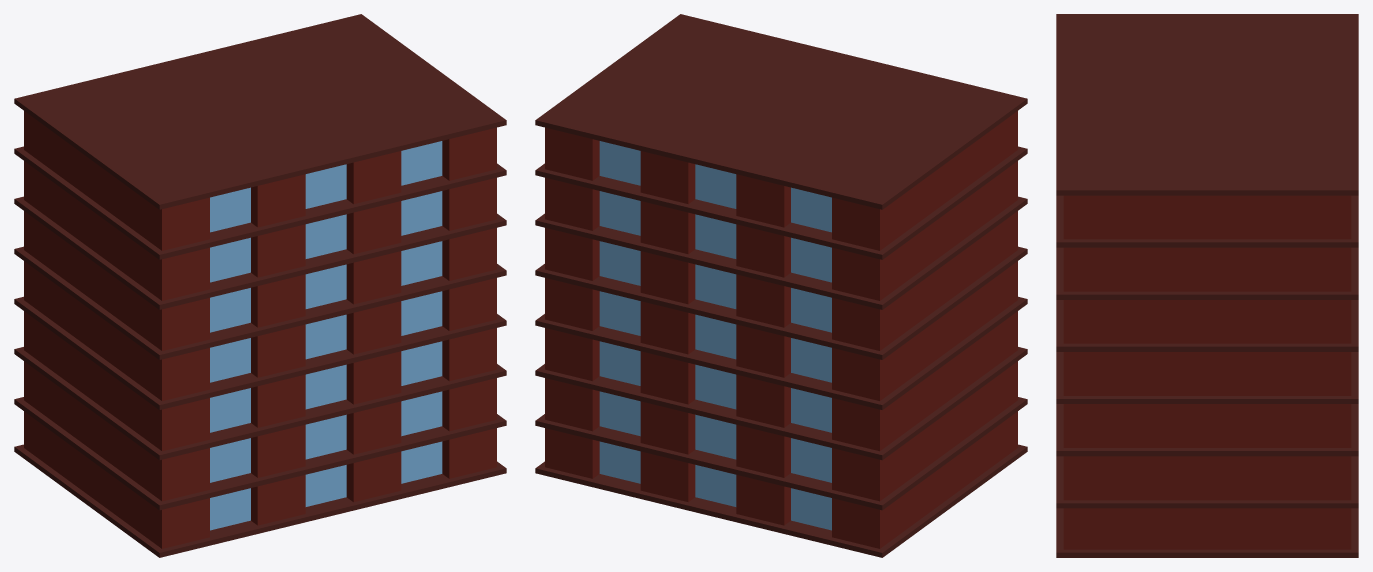
Rendered from Building2.gltf.
3 renders of one model, left to right at view 1: azimuth 30°, elevation 25°; view 2: azimuth 150°, elevation 25°; view 3: azimuth 270°, elevation 25°, orthographic. The views are drawn at different scales.
Parts seen in each view (by area): view 1: Cube.006, Cube.010, Cube.001, Cube.002, Cube.005, Cube.003, Cube.007, Cube.004, Cube.008, Cube.013, Cube.009, Cube.014 (+3 smaller); view 2: Cube.006, Cube.010, Cube.001, Cube.002, Cube.005, Cube.003, Cube.007, Cube.004, Cube.008, Cube.013, Cube.009, Cube.014 (+3 smaller); view 3: Cube.005, Cube.010, Cube.009, Cube.011, Cube.014, Cube.015, Cube.013, Cube.008, Cube.012.
Boxes of the visible parts, x1=… form: Cube.006: x1=24, y1=111, x2=209, y2=548; Cube.010: x1=14, y1=14, x2=506, y2=209; Cube.001: x1=346, y1=151, x2=401, y2=502; Cube.002: x1=251, y1=174, x2=305, y2=525; Cube.005: x1=442, y1=127, x2=496, y2=478; Cube.003: x1=401, y1=141, x2=442, y2=483; Cube.007: x1=305, y1=164, x2=346, y2=506; Cube.004: x1=210, y1=187, x2=250, y2=530; Cube.008: x1=14, y1=444, x2=506, y2=557; Cube.013: x1=14, y1=246, x2=506, y2=359; Cube.009: x1=14, y1=397, x2=506, y2=510; Cube.014: x1=14, y1=196, x2=506, y2=309; Cube.006: x1=832, y1=111, x2=1017, y2=548; Cube.010: x1=535, y1=14, x2=1027, y2=209; Cube.001: x1=640, y1=151, x2=695, y2=502; Cube.002: x1=736, y1=174, x2=790, y2=525; Cube.005: x1=545, y1=127, x2=599, y2=478; Cube.003: x1=599, y1=141, x2=640, y2=483; Cube.007: x1=695, y1=164, x2=736, y2=506; Cube.004: x1=791, y1=187, x2=831, y2=530; Cube.008: x1=535, y1=444, x2=1027, y2=557; Cube.013: x1=535, y1=246, x2=1027, y2=359; Cube.009: x1=535, y1=397, x2=1027, y2=510; Cube.014: x1=535, y1=196, x2=1027, y2=309; Cube.005: x1=1063, y1=195, x2=1351, y2=549; Cube.010: x1=1056, y1=14, x2=1358, y2=195; Cube.009: x1=1056, y1=456, x2=1358, y2=508; Cube.011: x1=1056, y1=404, x2=1358, y2=456; Cube.014: x1=1056, y1=247, x2=1358, y2=299; Cube.015: x1=1056, y1=195, x2=1358, y2=247; Cube.013: x1=1056, y1=300, x2=1358, y2=351; Cube.008: x1=1056, y1=508, x2=1358, y2=557; Cube.012: x1=1056, y1=352, x2=1358, y2=403.
Size of the model in its own units: 2.9 by 2.82 by 2.1.
